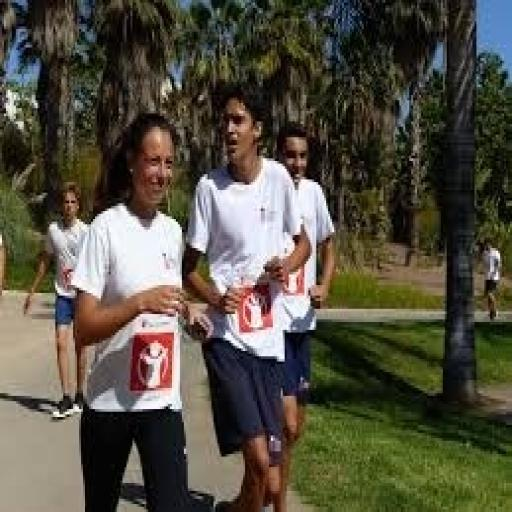running: (69, 108, 214, 510), (182, 82, 312, 509)
